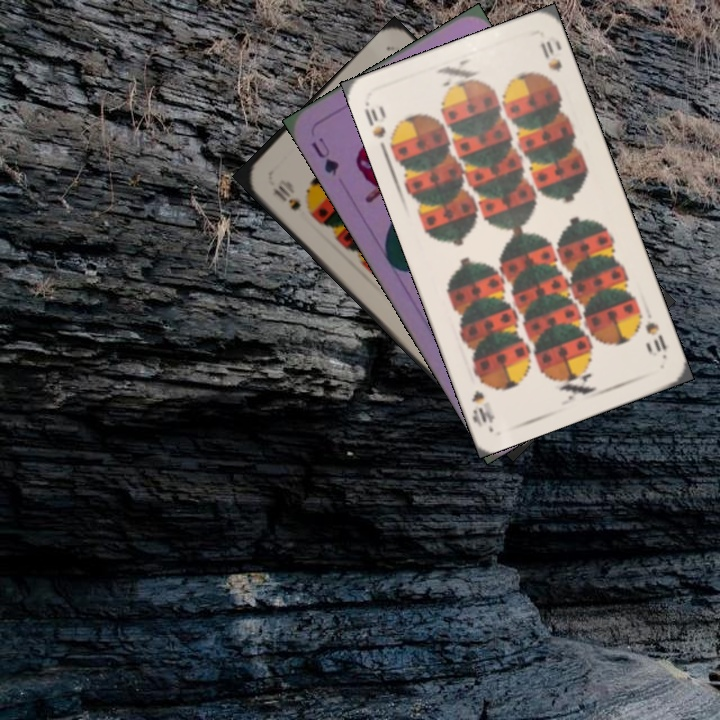GU: (307, 133, 342, 178)
S10: (360, 99, 399, 156), (269, 181, 304, 214), (641, 318, 670, 354)
